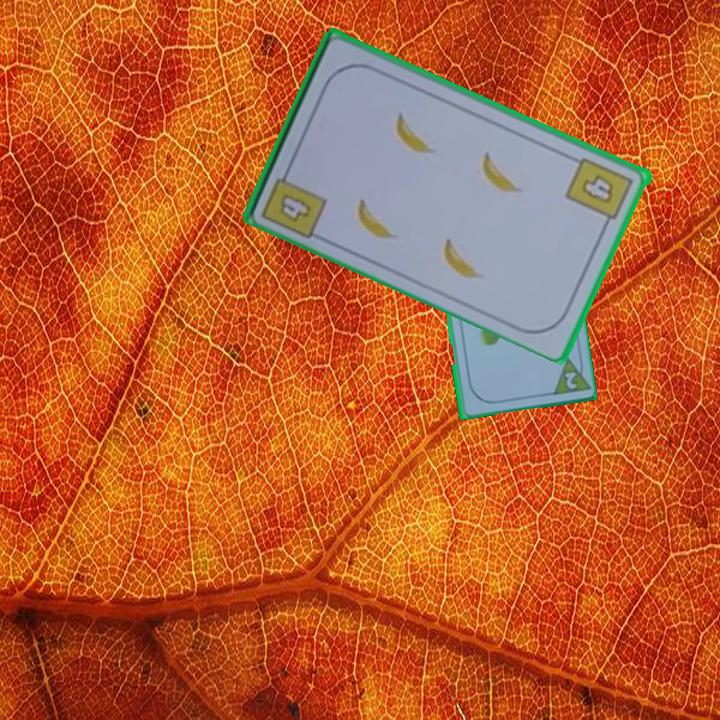2p: (561, 368, 580, 392)
4b: (563, 153, 637, 231), (276, 189, 315, 225)
